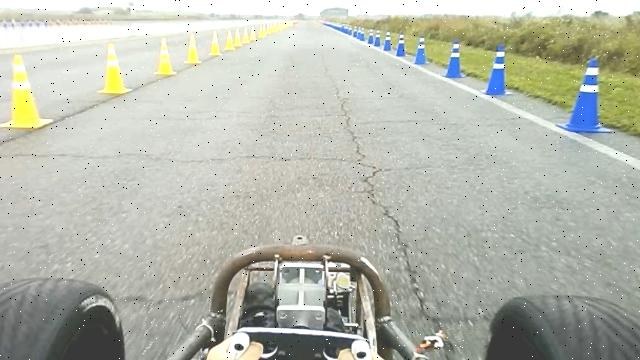blue cone: (556, 57, 613, 133), (483, 44, 513, 96), (443, 39, 466, 78), (414, 36, 429, 65), (395, 31, 407, 56), (383, 30, 392, 51), (373, 29, 382, 48)
yellow cone: (0, 53, 54, 128), (98, 42, 132, 95), (154, 37, 177, 75), (184, 32, 202, 64), (209, 30, 222, 55), (224, 30, 236, 51)
